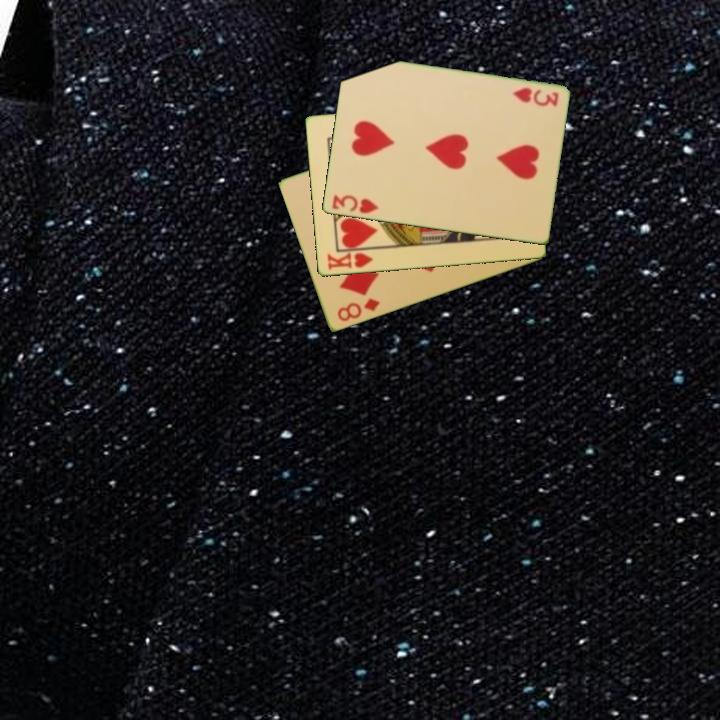3h: (328, 191, 381, 216), (509, 84, 561, 109)
8d: (333, 295, 382, 325)
Kh: (324, 246, 378, 273)
